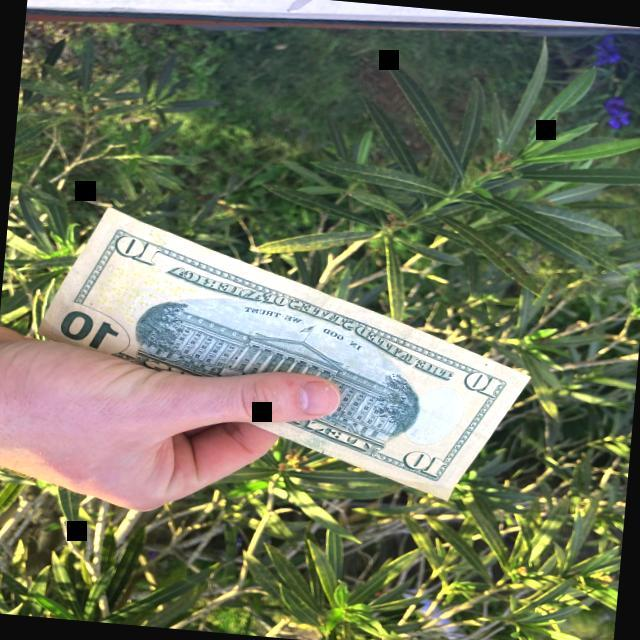ten: (35, 207, 531, 501)
